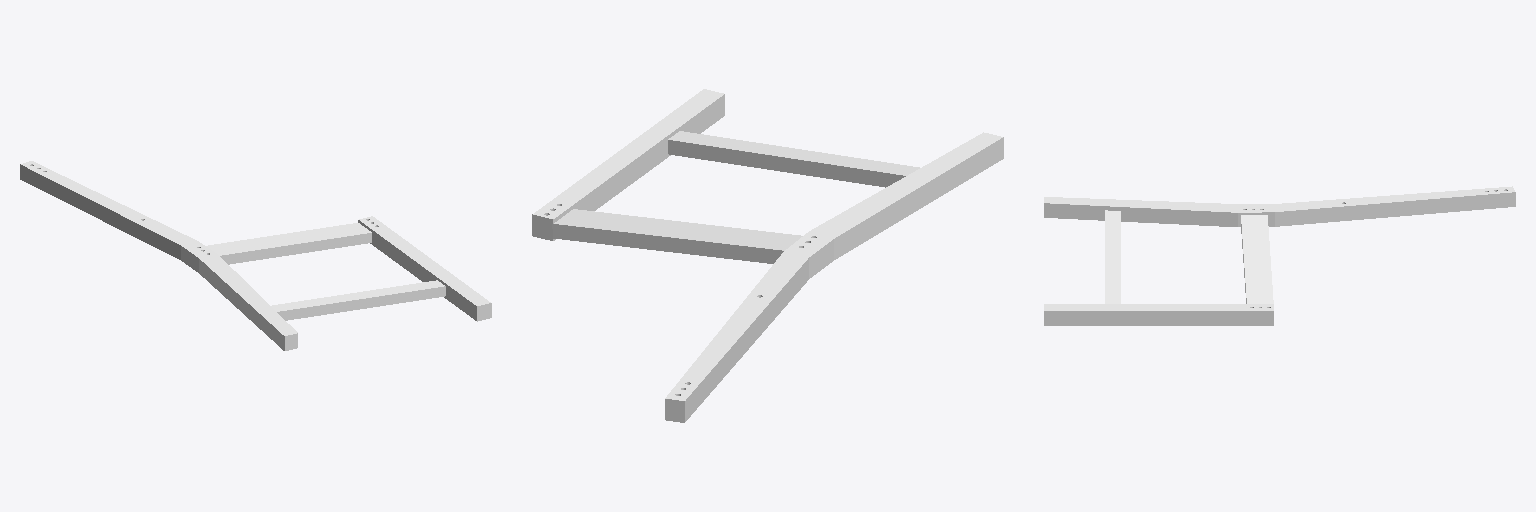
URDF robot description (ikea_stefan_side_left):
<?xml version="1.0" ?>
<robot name="ikea_stefan_side_left">
  <link name="object_link">
    <inertial>
      <origin rpy="0 0 0" xyz="0.15 0.3 -0.02"/>
       <mass value=".2"/>
       <inertia ixx="0" ixy="0" ixz="0" iyy="0" iyz="0" izz="0"/>
    </inertial>
    <visual>
      <origin rpy="0 0 0" xyz="0 0 0"/>
      <geometry>
				<mesh filename="ikea_stefan_side_left.stl" scale="1 1 1"/>
      </geometry>
       <material name="white">
        <color rgba="1 1 1 1"/>
      </material>
    </visual>
    <collision>
      <origin rpy="0 0 0" xyz="0 0 0"/>
      <geometry>
      <mesh filename="ikea_stefan_side_left.stl" scale="1 1 1"/>
      </geometry>
    </collision>
  </link>
</robot>

--- Render facts (derived) ---
Views: 3 orthographic renders of the robot side by side, from view 1: azimuth 30°, elevation 25°; view 2: azimuth 150°, elevation 25°; view 3: azimuth 270°, elevation 25°.
Robot: ikea_stefan_side_left — 1 links, 0 joints (none); root link object_link; default pose: every joint at zero.
Links seen in each view (by area): view 1: object_link; view 2: object_link; view 3: object_link.
Link boxes in pixels (x1=…): object_link: x1=20, y1=161, x2=491, y2=350; object_link: x1=532, y1=89, x2=1003, y2=422; object_link: x1=1044, y1=186, x2=1515, y2=325.
Bounding box of the posed robot: 0.4854 × 0.895 × 0.0653 m (x, y, z).
Meshes: 1 distinct files referenced, 1 mesh visuals loaded (1 binary STL).
